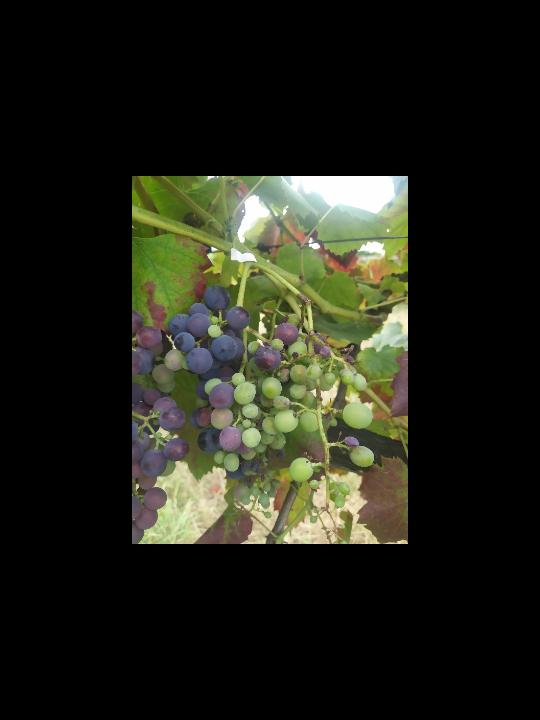grape: (166, 282, 289, 490), (274, 310, 377, 525)
